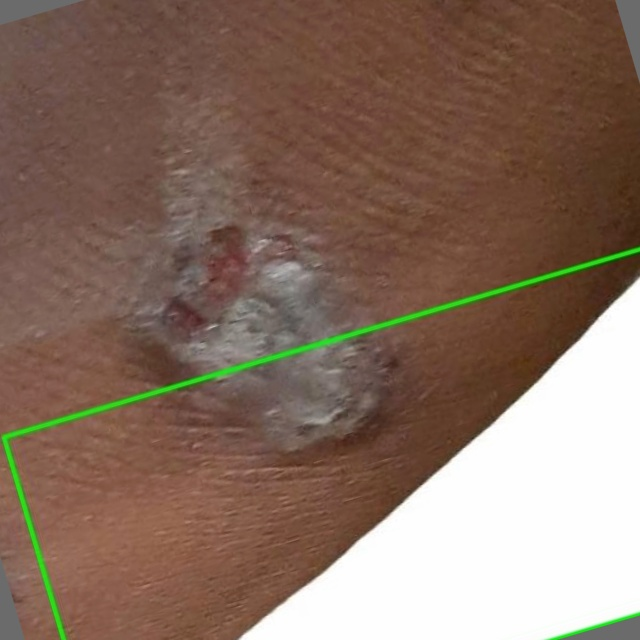Contact Dermatitis: (3, 249, 639, 639)
